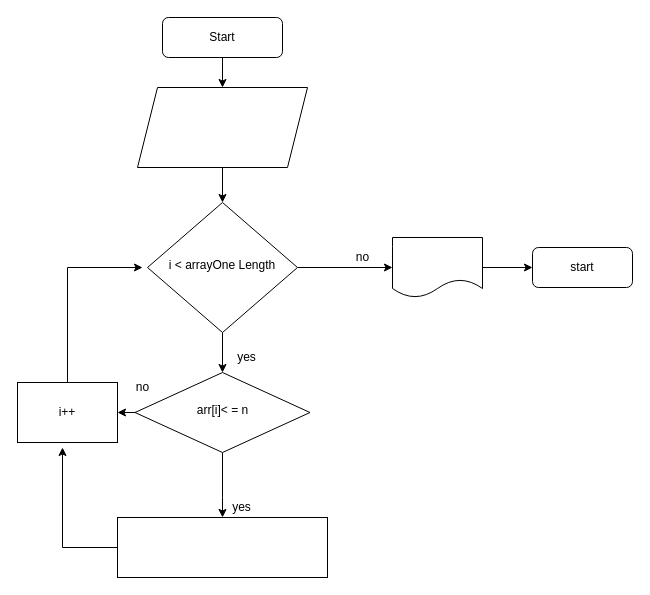
The diagram is 650 pixels wide and 595 high, and some of its shapes have lost their labels. Here are the shapes that lost their labels. From the top down, the centre of each, then its label:
(x=222, y=127): n=3 i=0 j=0 string[] arrayOne string[] arrayTwo
(x=437, y=267): arrayTwo
(x=222, y=547): arrayTwo[j] = arrayOne[i] j++
